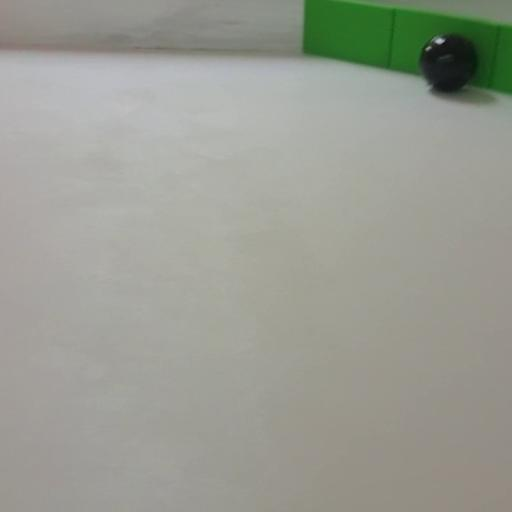dead: (421, 31, 479, 95)
